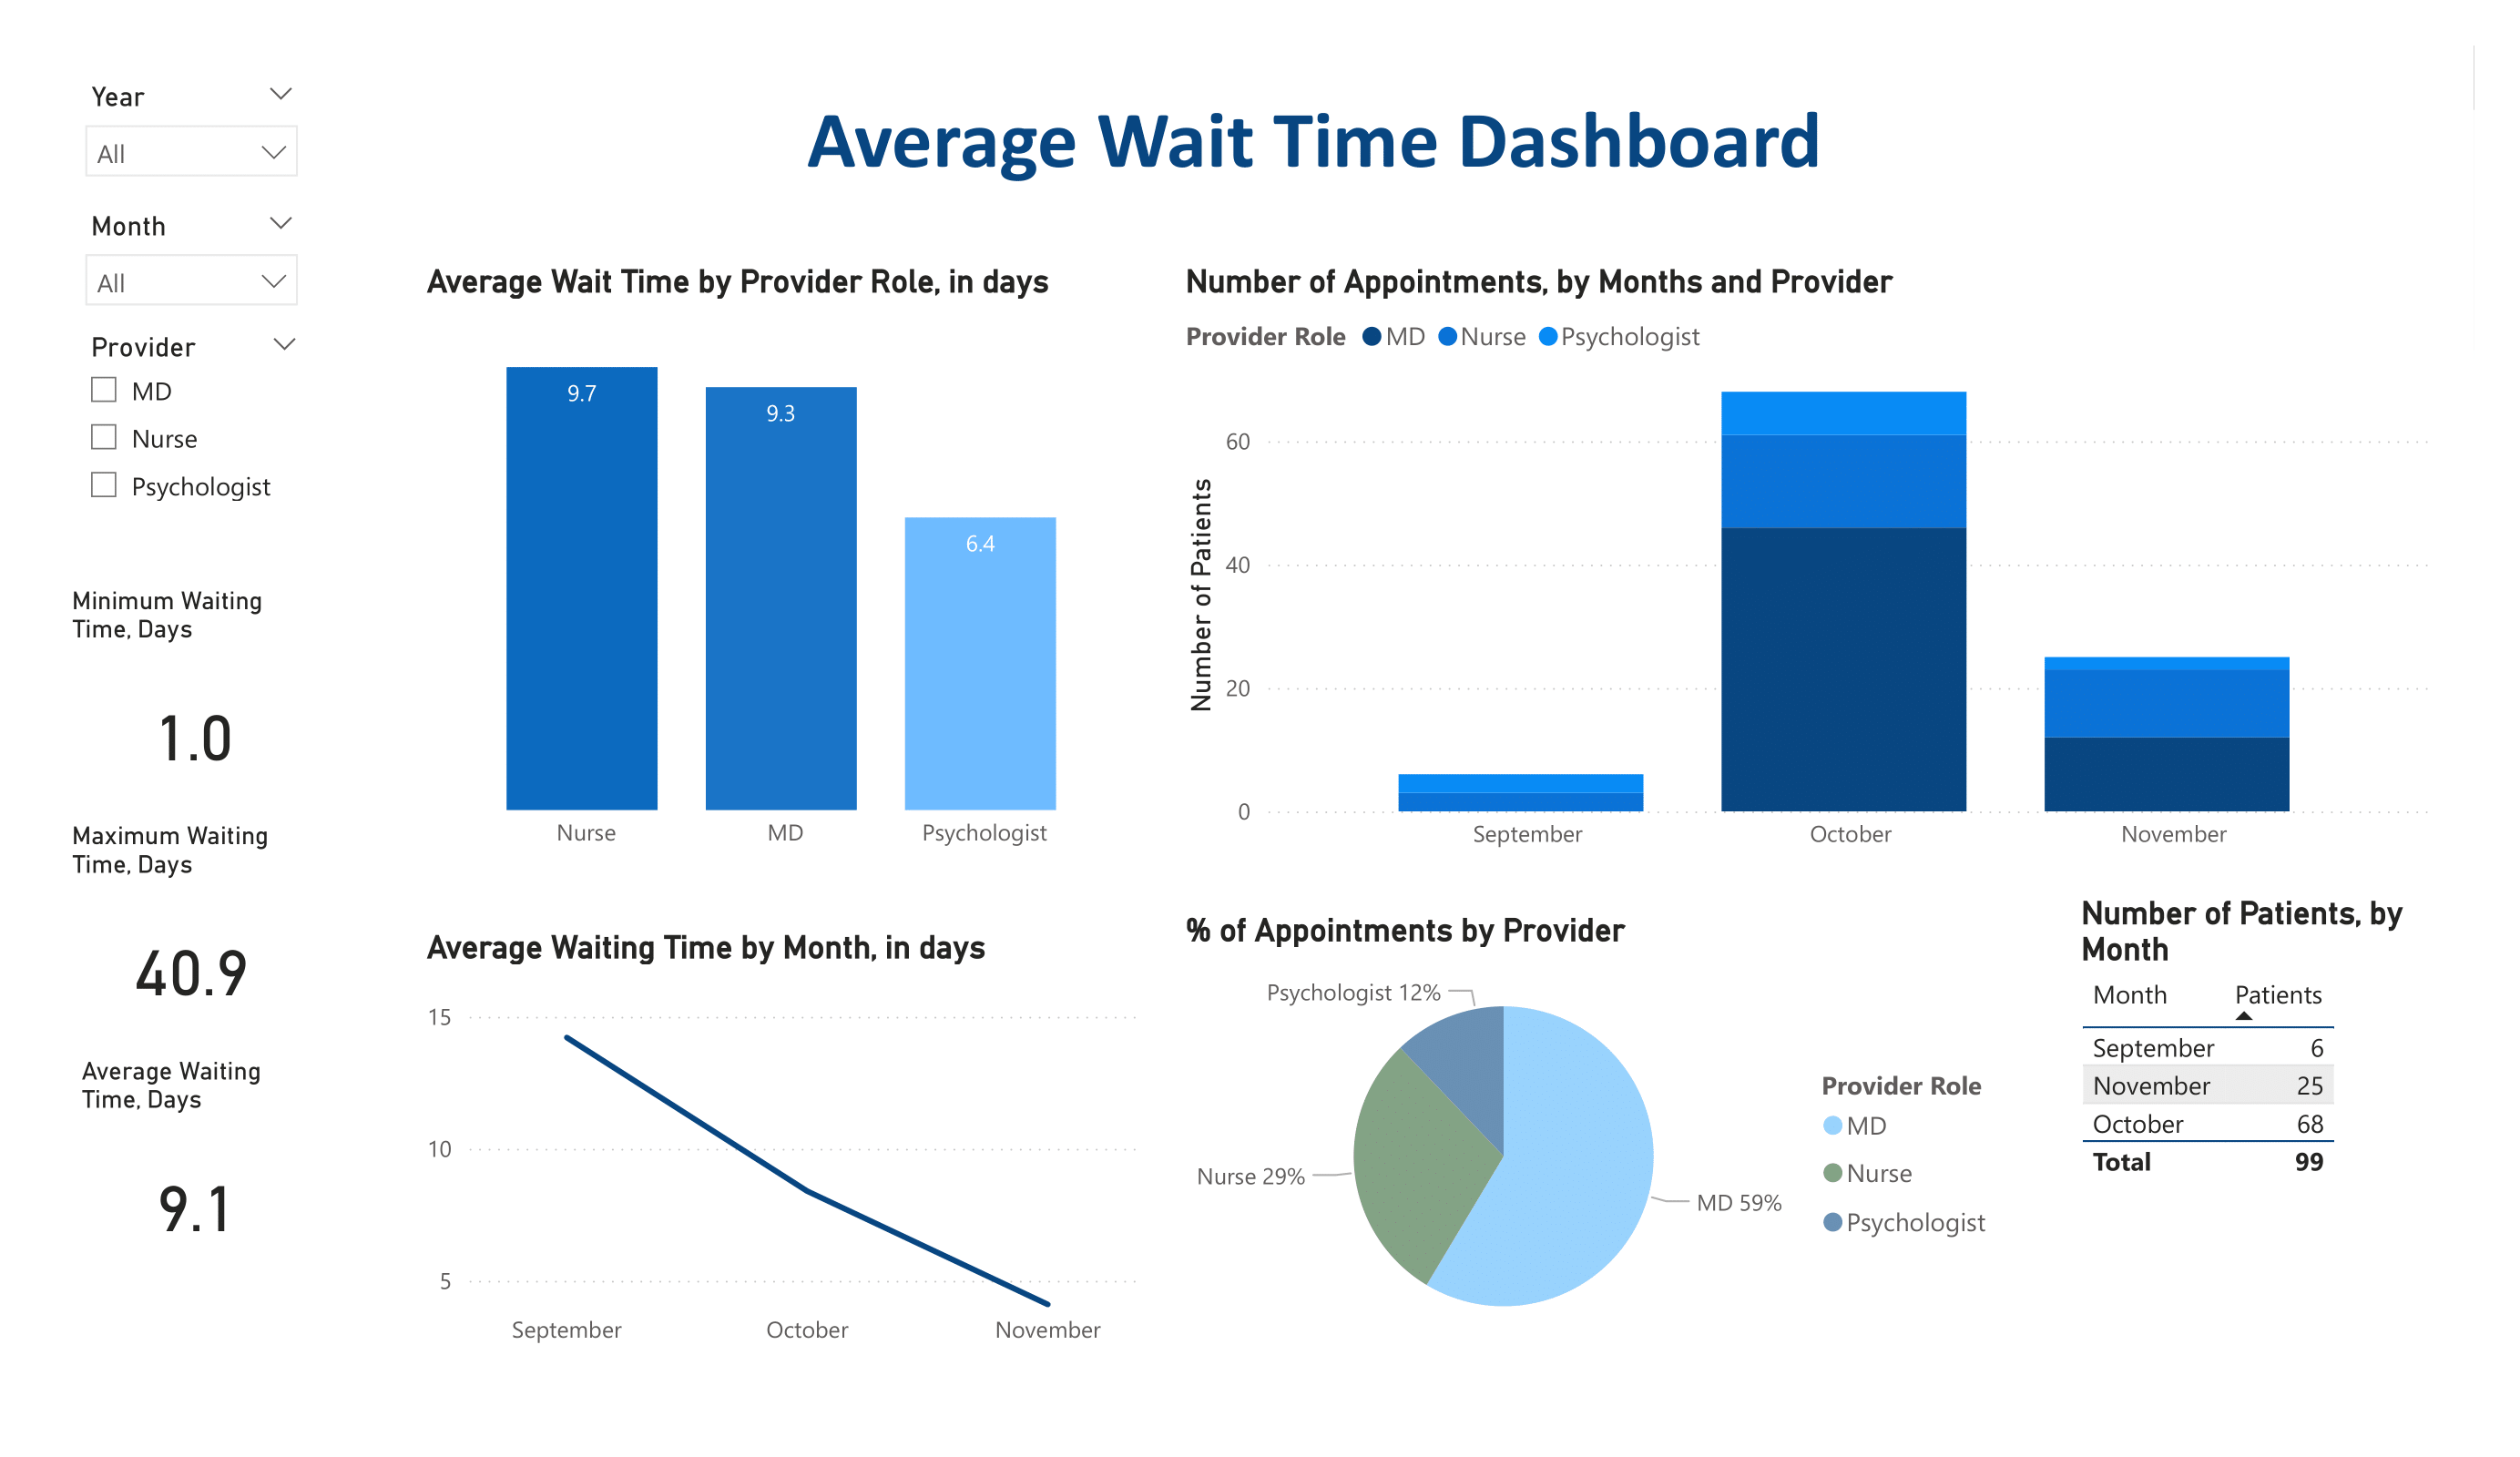

The page's visual inventory and layout, read from the dashboard file:
{"tool":"powerbi","page":{"name":"Average Wait Time","canvas":[1280,720],"ordinal":0},"visuals":[{"type":"slicer","fields":{"Values":["Table1.Requesting date.Variation.Date Hierarchy.Year"]},"box":[11,14,132,64.1],"z":0,"group":"g1"},{"type":"columnChart","title":"Average Wait Time by Provider Role, in days","fields":{"Category":["Table1.Provider Role"],"Y":["Avg(Table1.Waiting Time)"]},"box":[196,114,388,319],"z":0},{"type":"slicer","fields":{"Values":["Table1.Requesting date.Variation.Date Hierarchy.Month"]},"box":[11,82,132,64.1],"z":1000,"group":"g1"},{"type":"pieChart","title":"% of Appointments by Provider","fields":{"Category":["Table1.Provider Role"],"Y":["CountNonNull(Table1.Patient ID)"]},"box":[595.9,455.8,446,240.3],"z":1000},{"type":"card","title":"Maximum Waiting Time, Days","fields":{"Values":["Max(Table1.Waiting Time)"]},"box":[8.7,408.9,136,124],"z":2000},{"type":"textbox","box":[390.1,17.7,557.7,64.7],"z":3000},{"type":"slicer","fields":{"Values":["Table1.Provider Role"]},"box":[11,146,134,112],"z":3000,"group":"g1"},{"type":"card","title":"Minimum Waiting Time, Days","fields":{"Values":["Min(Table1.Waiting Time)"]},"box":[8.9,284.6,138.3,124.1],"z":4000},{"type":"lineChart","title":"Average Waiting Time by Month, in days","fields":{"Y":["Avg(Table1.Waiting Time)"],"Category":["Table1.Requesting date.Variation.Date Hierarchy.Month"]},"box":[196,464.6,388.4,230.5],"z":5000},{"type":"card","title":"Average Waiting Time, Days","fields":{"Values":["Avg(Table1.Waiting Time)"]},"box":[13.7,532.9,131,125],"z":6000},{"type":"group","id":"g1","title":"Group 1","box":[11,14,134,244],"z":7000},{"type":"columnChart","title":"Number of Appointments, by Months and Provider","fields":{"Y":["CountNonNull(Table1.Patient ID)"],"Category":["Table1.Appointment date.Variation.Date Hierarchy.Month"],"Series":["Table1.Provider Role"]},"box":[595.9,114.4,666.8,319.2],"z":8000},{"type":"tableEx","title":"Number of Patients, by Month","fields":{"Values":["Table1.Appointment date.Variation.Date Hierarchy.Month","Table1.Patient ID"]},"box":[1068.5,446.9,194.2,248.3],"z":9000}]}

Visuals, with their boxes in screenshot pixels (x1, y1, x2, y2):
slicer - Table1.Requesting date.Variation.Date Hierarchy.Year: [66, 72, 317, 194]
"Average Wait Time by Provider Role, in days" columnChart: [417, 262, 1154, 867]
slicer - Table1.Requesting date.Variation.Date Hierarchy.Month: [66, 201, 317, 322]
"% of Appointments by Provider" pieChart: [1177, 911, 2023, 1366]
"Maximum Waiting Time, Days" card: [62, 821, 321, 1056]
textbox: [786, 79, 1844, 202]
slicer - Table1.Provider Role: [66, 322, 321, 535]
"Minimum Waiting Time, Days" card: [63, 586, 325, 820]
"Average Waiting Time by Month, in days" lineChart: [417, 927, 1155, 1364]
"Average Waiting Time, Days" card: [72, 1056, 321, 1294]
"Group 1" group: [66, 72, 321, 535]
"Number of Appointments, by Months and Provider" columnChart: [1177, 262, 2442, 868]
"Number of Patients, by Month" tableEx: [2073, 893, 2442, 1364]
